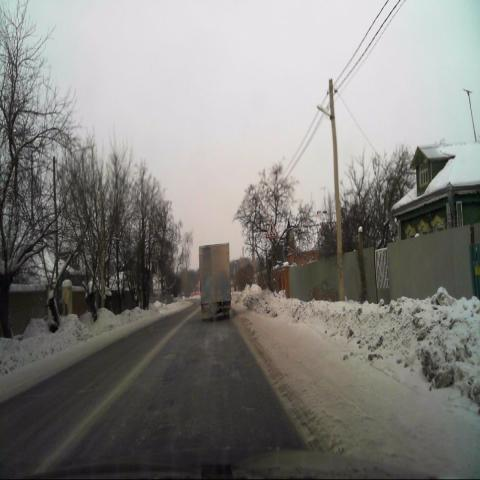1_22: (265, 218, 278, 240)
